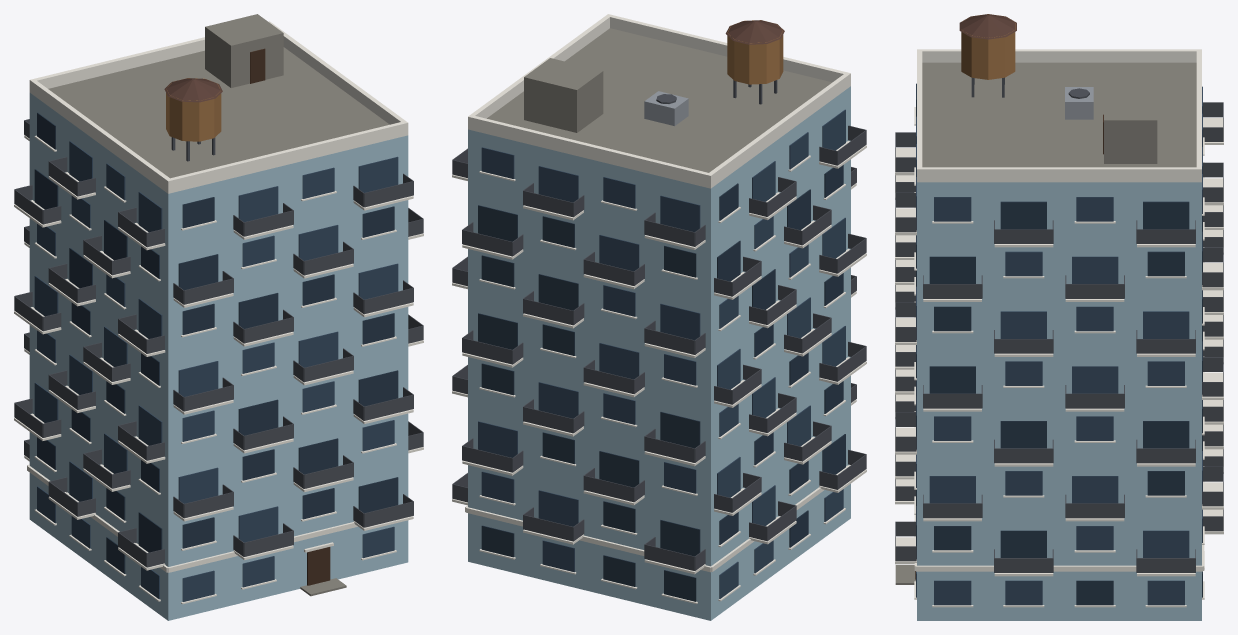
Rendered from apt_c.glb.
3 views of the same model, side by side, from view 1: azimuth 30°, elevation 25°; view 2: azimuth 150°, elevation 25°; view 3: azimuth 270°, elevation 25° (orthographic). The views are drawn at different scales.
Parts seen in each view (by area): view 1: apt_c; view 2: apt_c; view 3: apt_c.
Boxes of the visible parts, x1=… form: apt_c: x1=14, y1=14, x2=423, y2=620; apt_c: x1=452, y1=14, x2=866, y2=620; apt_c: x1=895, y1=14, x2=1223, y2=620.
Size of what is drawn, in the model's own units: 18.48 by 31.95 by 18.48.
